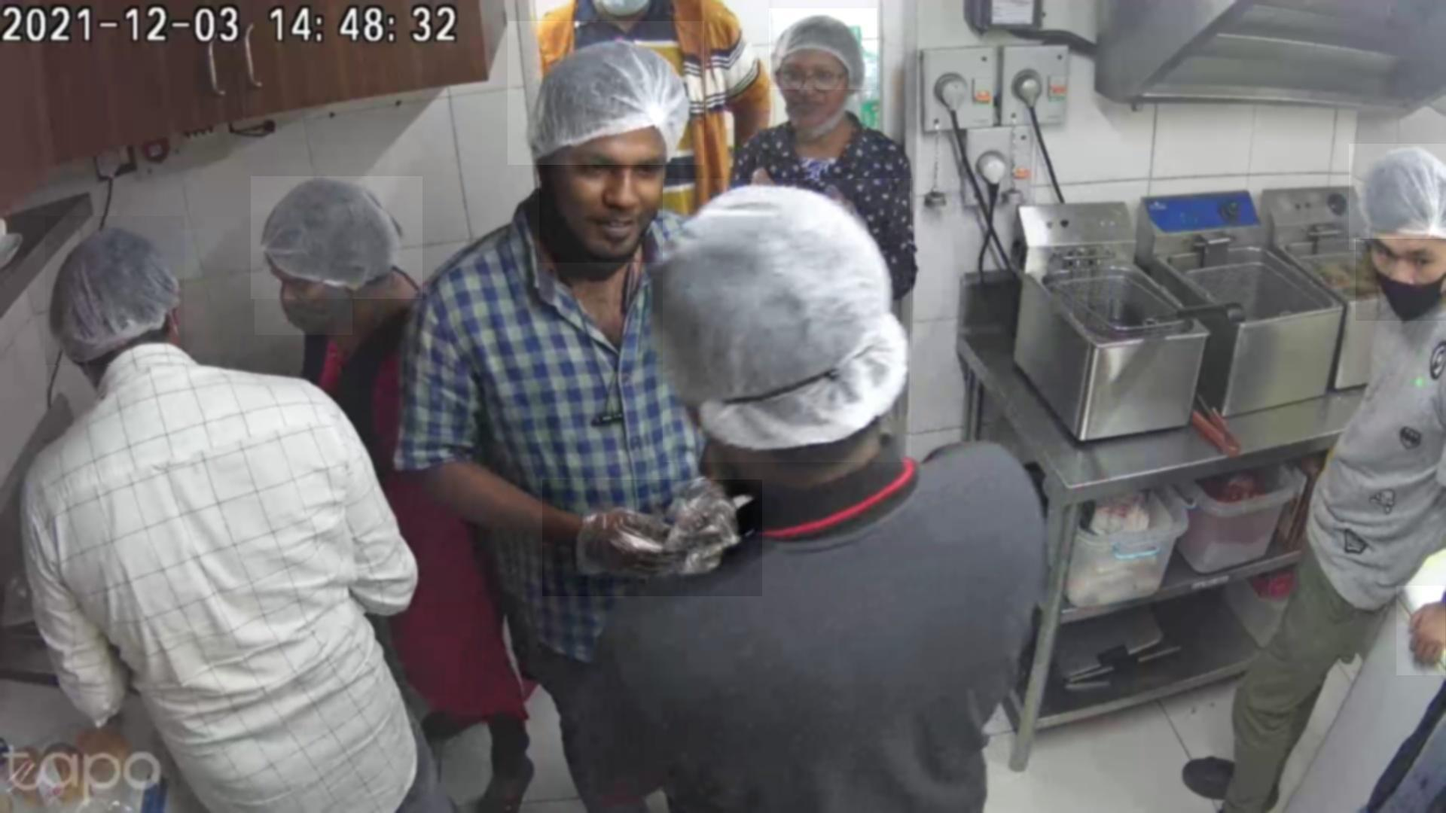apron: (543, 480, 763, 597)
gloves: (664, 179, 912, 463), (508, 21, 704, 165), (252, 177, 423, 299), (46, 217, 185, 366), (1349, 144, 1446, 250), (769, 8, 877, 90)
mask: (255, 267, 352, 335)
no_apron: (1396, 585, 1446, 675)
no_hairnet: (539, 156, 663, 263), (1356, 239, 1446, 321), (771, 72, 860, 141)
